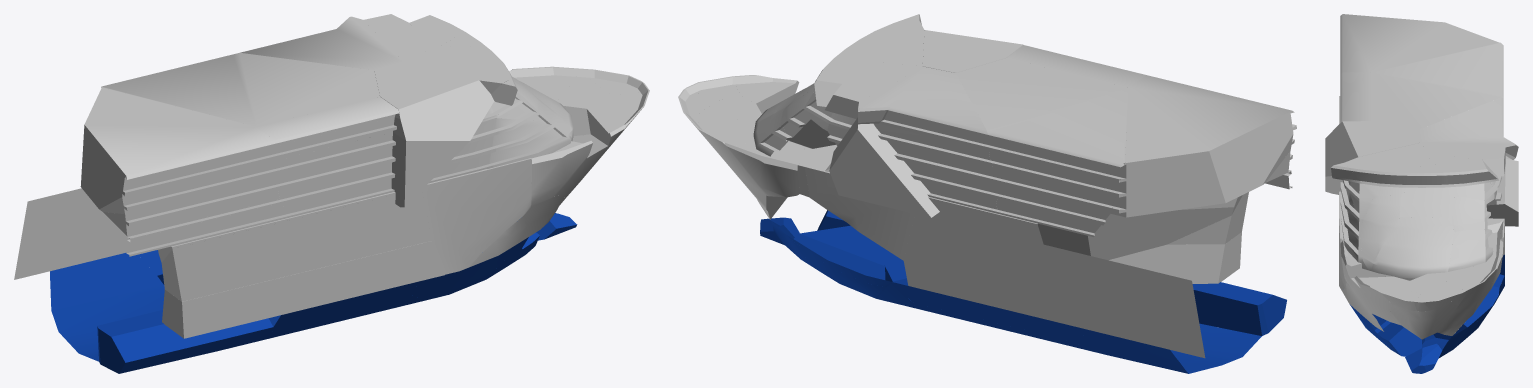
Rendered from ship_break_front.fbx.
The picture shows the model from 3 angles, left to right: view 1: azimuth 30°, elevation 25°; view 2: azimuth 150°, elevation 25°; view 3: azimuth 270°, elevation 25°; orthographic projection. The views are drawn at different scales.
Visible parts, largest first — view 1: Plane004_cell.028, Plane002_cell.033, Plane004_cell.006, Plane002_cell.013, Plane004_cell.008, Plane002_cell.014, Shape_cell.020, Plane004_cell.048, Plane002_cell.029, Shape_cell.043, Plane004_cell.004, Plane004_cell.032 (+23 smaller); view 2: Plane004_cell.006, Plane004_cell.028, Plane002_cell.007, Plane004_cell.004, Plane002_cell.029, Plane004_cell.038, Plane002_cell.008, Shape_cell.020, Plane002_cell.011, Shape_cell.017, Shape_cell.043, Plane002_cell.013 (+20 smaller); view 3: Plane004_cell.006, Plane004_cell.028, Plane004_cell.020, Plane004_cell.008, Plane004_cell.004, Plane004_cell.031, Plane004_cell.026, Plane002_cell.001, Plane004_cell.033, Plane002_cell.041, Plane004_cell.003, Plane004_cell.009 (+21 smaller).
Part boxes in pixels (x1,y1,x2,y2): Plane004_cell.028: (80,87,279,214); Plane002_cell.033: (161,190,431,301); Plane004_cell.006: (101,52,379,126); Plane002_cell.013: (162,241,444,338); Plane004_cell.008: (374,61,493,207); Plane002_cell.014: (422,158,532,274); Shape_cell.020: (50,253,164,361); Plane004_cell.048: (276,132,395,217); Plane002_cell.029: (14,188,129,279); Shape_cell.043: (97,310,273,373); Plane004_cell.004: (240,16,402,70); Plane004_cell.032: (103,177,280,236); Plane004_cell.006: (956,58,1128,236); Plane004_cell.028: (1110,75,1296,217); Plane002_cell.007: (903,197,1043,318); Plane004_cell.004: (858,67,999,213); Plane002_cell.029: (1043,244,1205,358); Plane004_cell.038: (829,117,939,217); Plane002_cell.008: (1037,195,1242,260); Shape_cell.020: (1078,323,1261,373); Plane002_cell.011: (804,166,914,260); Shape_cell.017: (792,225,885,297); Shape_cell.043: (1192,282,1286,335); Plane002_cell.013: (1109,232,1241,283); Plane004_cell.006: (1371,42,1503,129); Plane004_cell.028: (1340,14,1498,74); Plane004_cell.020: (1371,217,1454,278); Plane004_cell.008: (1325,121,1419,194); Plane004_cell.004: (1417,97,1518,159); Plane004_cell.031: (1344,143,1429,196); Plane004_cell.026: (1399,159,1454,217); Plane002_cell.001: (1390,273,1468,339); Plane004_cell.033: (1429,153,1498,204); Plane002_cell.041: (1430,266,1496,335); Plane004_cell.003: (1359,195,1401,270); Plane004_cell.009: (1340,72,1371,122).
Bounding box in the file's own units: 132 × 47.9 × 47.4.
